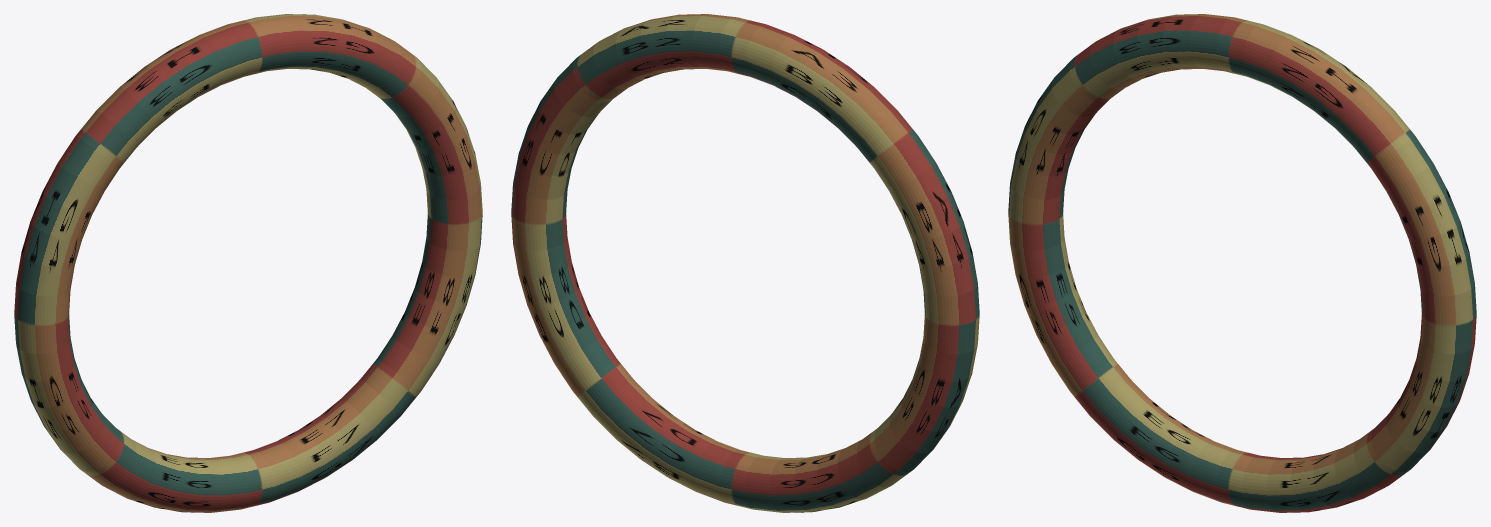
File: texture_torus_R25_r4.glb
3 renders of one model, left to right at view 1: azimuth 30°, elevation 25°; view 2: azimuth 150°, elevation 25°; view 3: azimuth 330°, elevation 25°, orthographic.
Visible parts, largest first — view 1: world; view 2: world; view 3: world.
Part boxes in pixels (bbox=[...]): world: bbox=[14, 14, 482, 512]; world: bbox=[511, 14, 979, 512]; world: bbox=[1008, 14, 1476, 512].
Bounding box in the file's own units: 29.73 × 29.67 × 3.06.
Materials: 1 (1 with a texture image).
